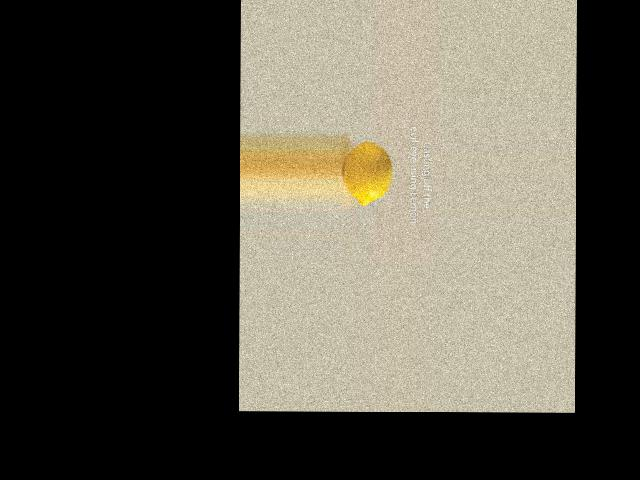lemon: (345, 135, 396, 214)
